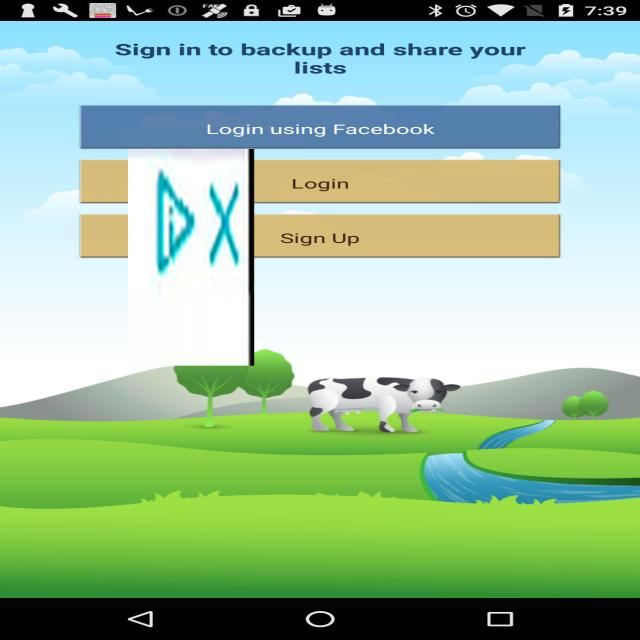sneaking: (128, 149, 254, 366)
